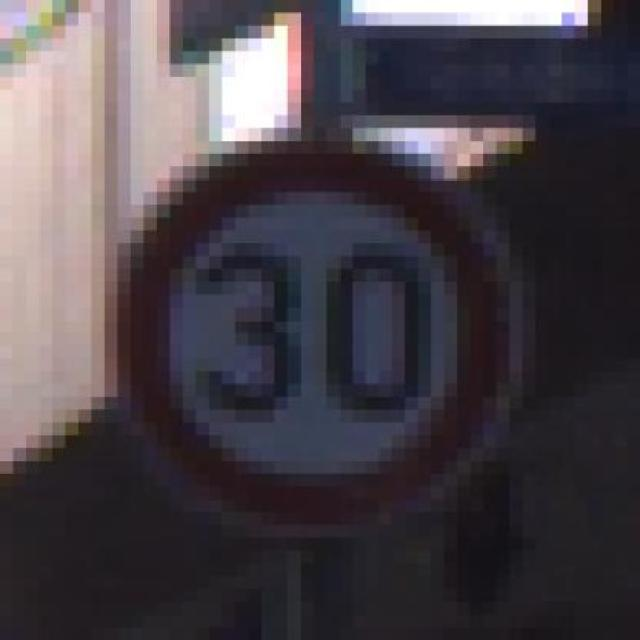Speed Limit 30 KMPh: (79, 115, 562, 576)
